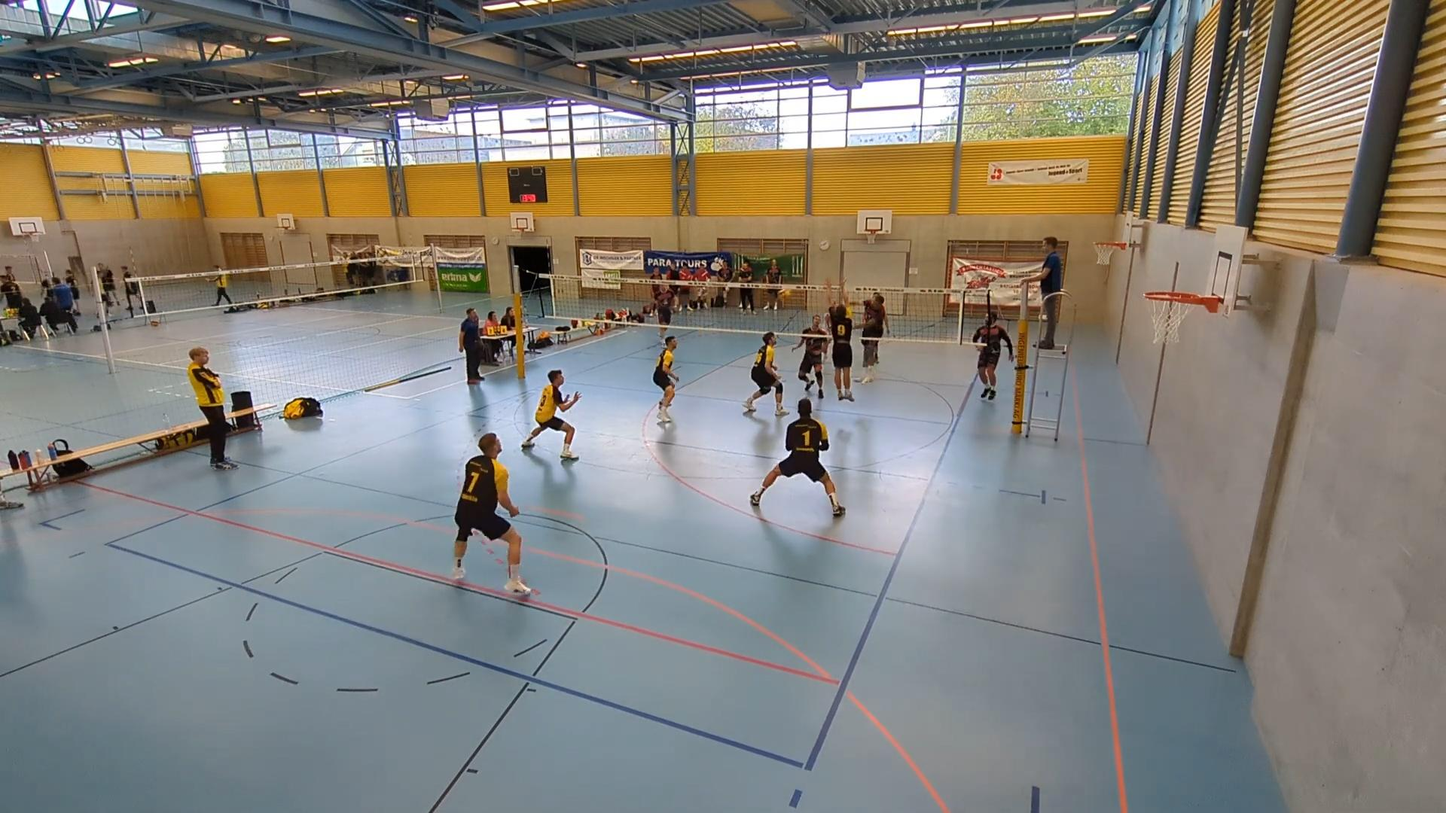attacco: (845, 288, 894, 369)
muro: (823, 275, 858, 403)
